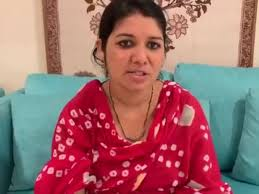indian_female: (86, 1, 174, 111)
